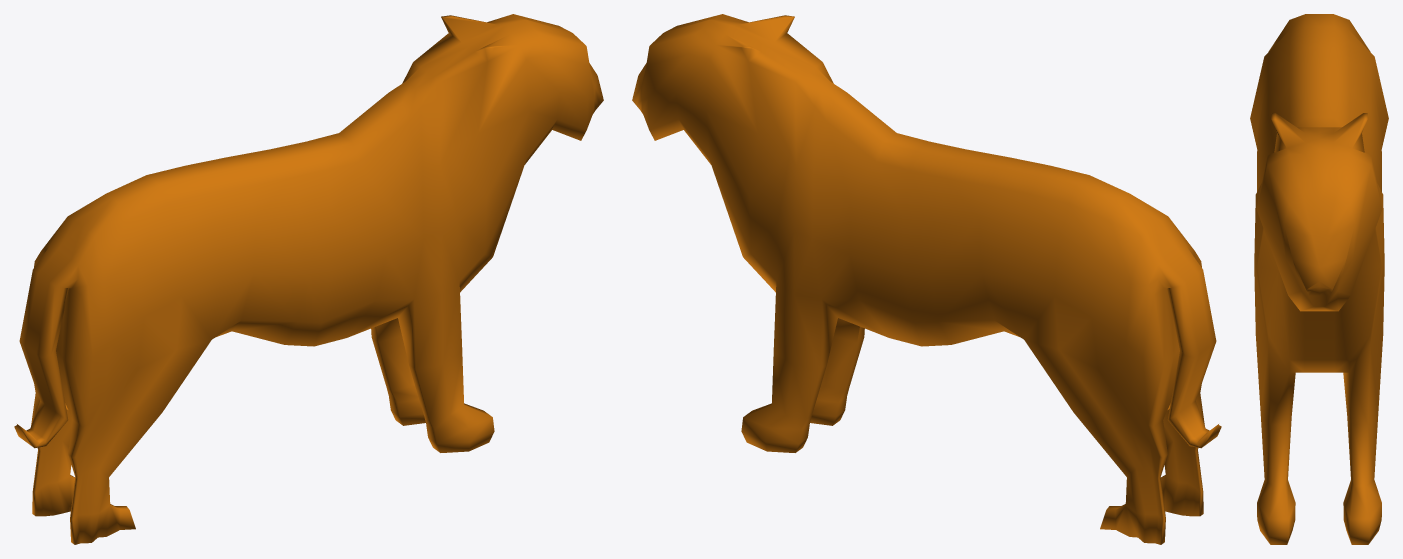
Rendered from tiger2.obj.
The picture shows the model from 3 angles, left to right: view 1: azimuth 30°, elevation 25°; view 2: azimuth 150°, elevation 25°; view 3: azimuth 270°, elevation 25°; orthographic projection. The views are drawn at different scales.
Parts seen in each view (by area): view 1: Plane_Plane.001; view 2: Plane_Plane.001; view 3: Plane_Plane.001.
Boxes of the visible parts, box(x1,y1,x2,y2) form: Plane_Plane.001: box(14, 14, 603, 544); Plane_Plane.001: box(632, 14, 1221, 544); Plane_Plane.001: box(1250, 14, 1388, 544).
Bounding box in the file's own units: 4.32 × 2.83 × 0.8218.
